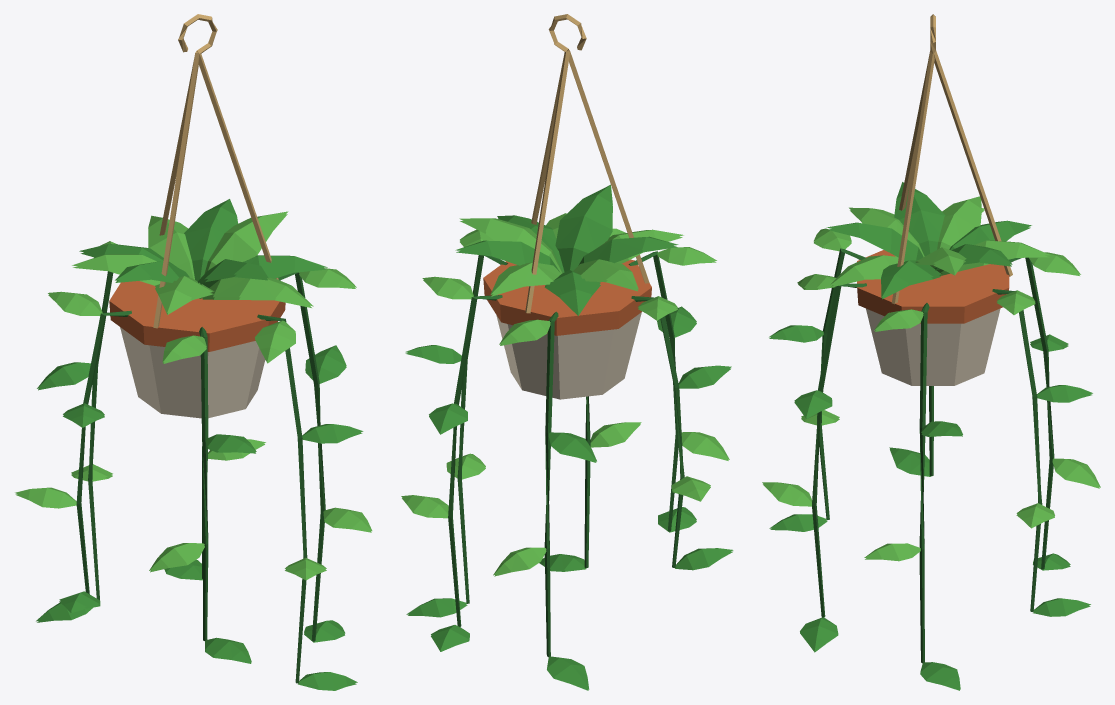
Rendered from Prop_HangingPlant.fbx.
3 renders of one model, left to right at view 1: azimuth 30°, elevation 25°; view 2: azimuth 150°, elevation 25°; view 3: azimuth 270°, elevation 25°, orthographic. The views are drawn at different scales.
Visible parts, largest first — view 1: Prop_HangingPlant; view 2: Prop_HangingPlant; view 3: Prop_HangingPlant.
Part boxes in pixels (bbox=[...]): Prop_HangingPlant: bbox=[15, 14, 372, 690]; Prop_HangingPlant: bbox=[401, 14, 733, 690]; Prop_HangingPlant: bbox=[762, 14, 1100, 690].
Size of the model in its own units: 0.5151 by 1.03 by 0.5187.
